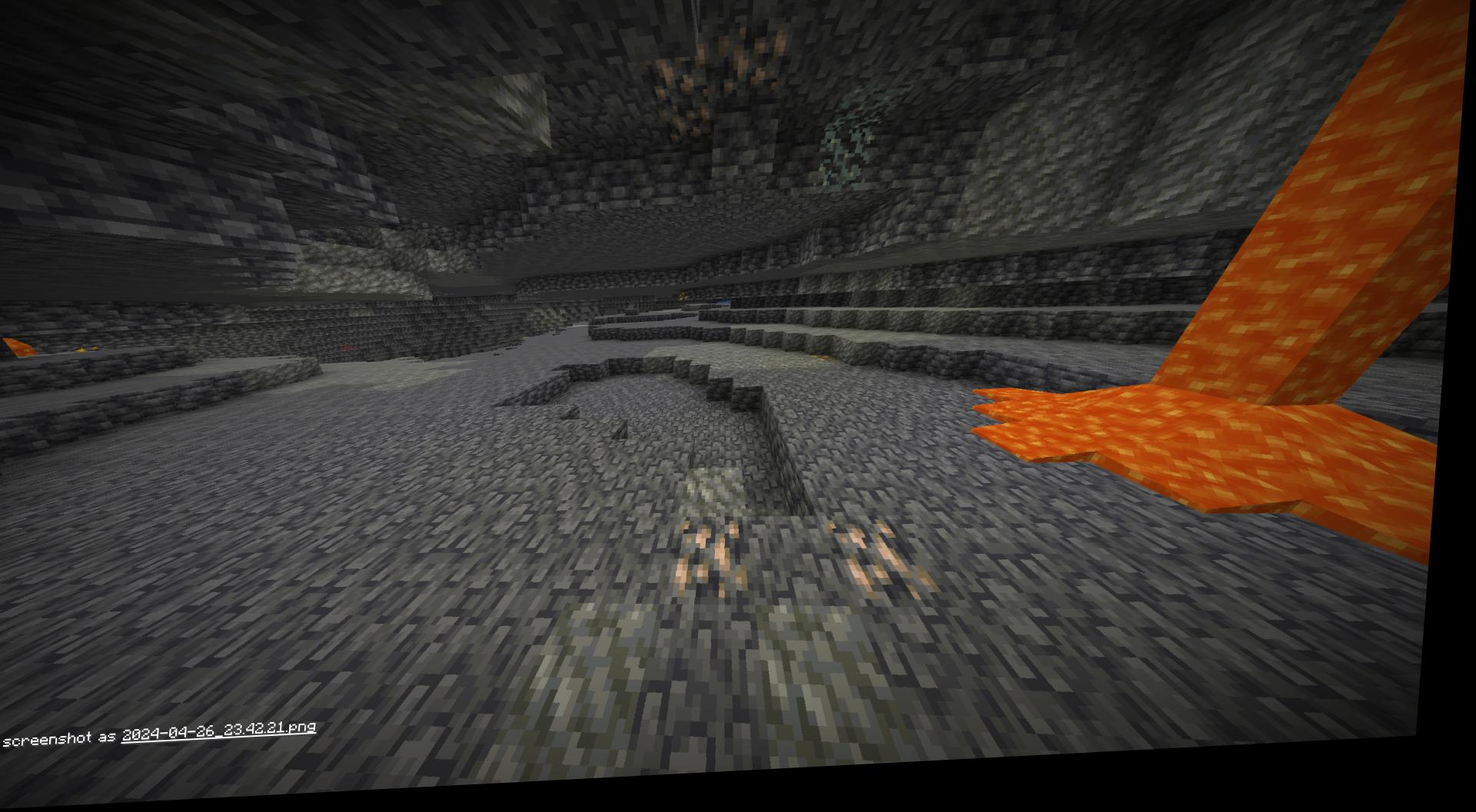iron ore: (838, 523, 929, 611), (680, 521, 762, 601), (719, 28, 790, 100), (651, 48, 718, 111), (667, 111, 718, 148)
